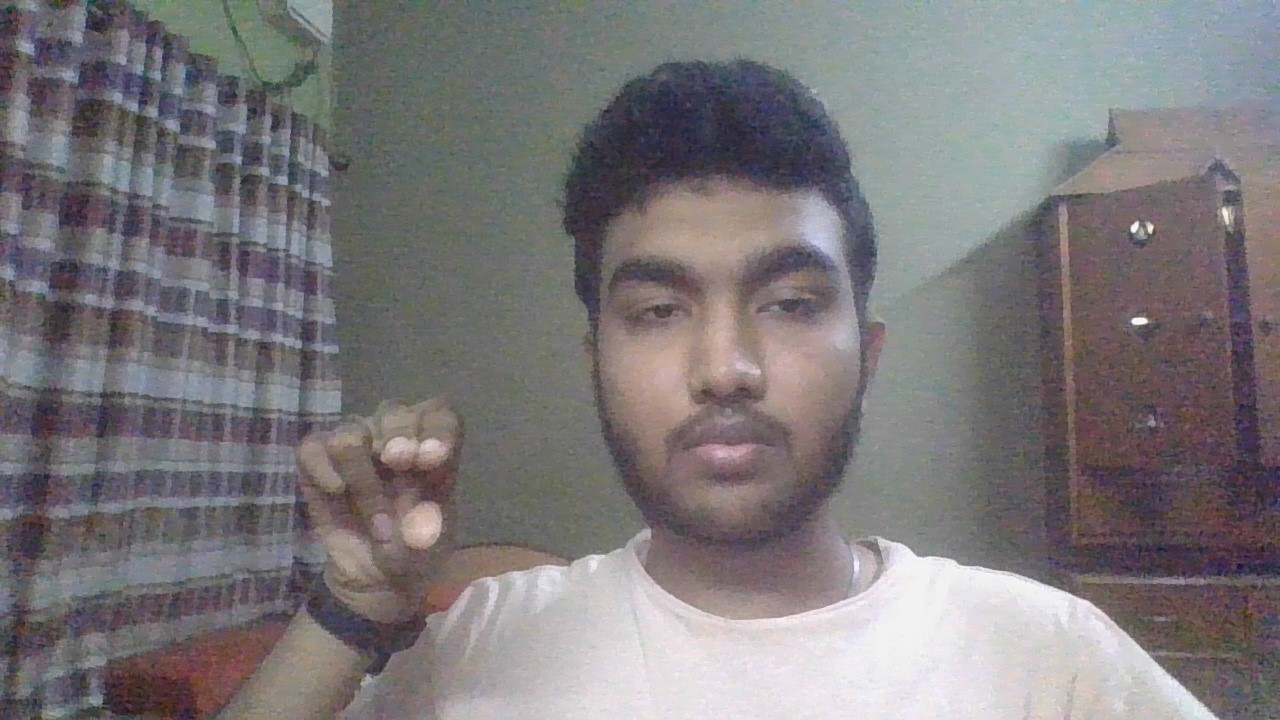No: (260, 376, 517, 668)
